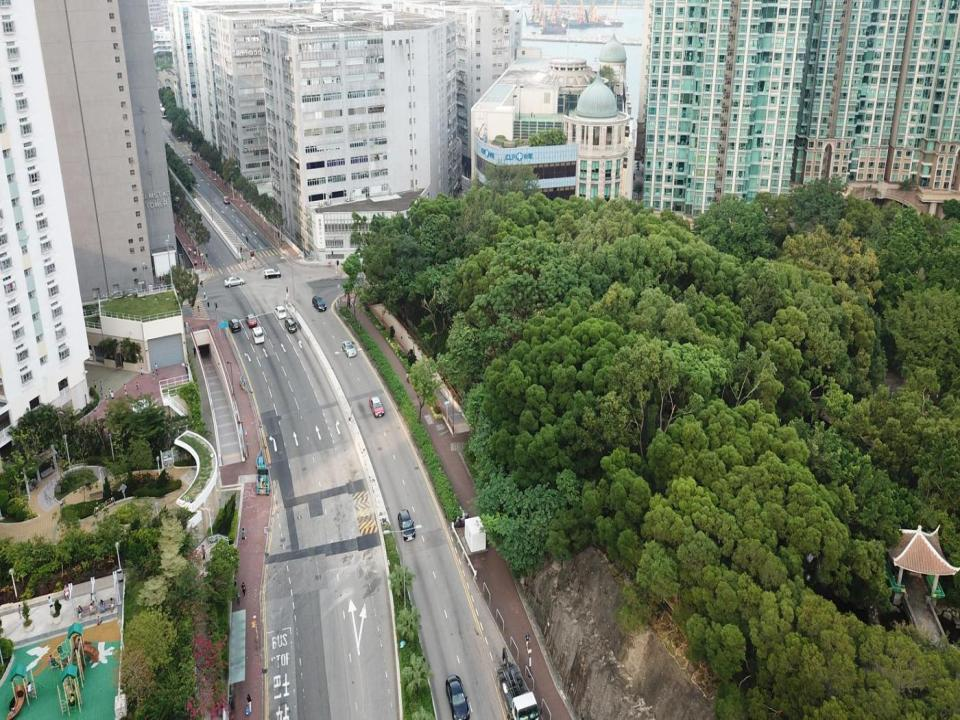bus: (159, 106, 167, 118)
car: (445, 674, 470, 719), (369, 396, 385, 417), (341, 340, 356, 358), (224, 276, 245, 287), (228, 318, 241, 333), (264, 268, 281, 278), (170, 190, 182, 203), (246, 314, 257, 327), (222, 196, 230, 204), (186, 159, 192, 164)
truck: (496, 647, 539, 719)
van: (397, 508, 415, 541), (312, 295, 326, 312), (252, 326, 264, 344), (284, 317, 297, 333), (274, 305, 287, 319)
